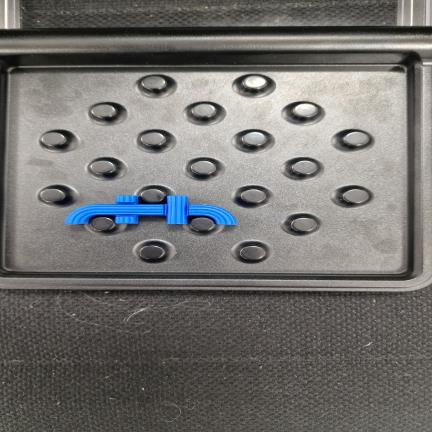C_DarkBlue: (65, 196, 236, 225)
board: (0, 27, 432, 294)
hinge: (0, 26, 432, 59)
pin: (343, 131, 370, 147), (239, 245, 266, 261), (241, 131, 267, 147), (240, 188, 266, 204), (291, 160, 318, 175), (342, 189, 369, 204), (290, 217, 317, 232), (141, 75, 167, 90), (242, 75, 268, 90), (91, 104, 117, 119), (191, 103, 217, 118), (292, 103, 318, 118), (41, 132, 67, 147), (90, 160, 116, 175), (190, 160, 216, 175), (140, 188, 166, 203), (40, 188, 66, 203), (139, 245, 165, 260), (190, 217, 215, 232), (141, 132, 167, 146), (90, 217, 115, 231)
